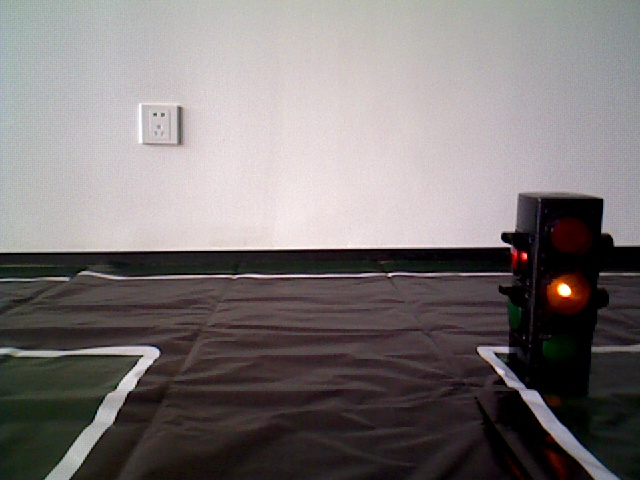yellow: (511, 191, 596, 370)
